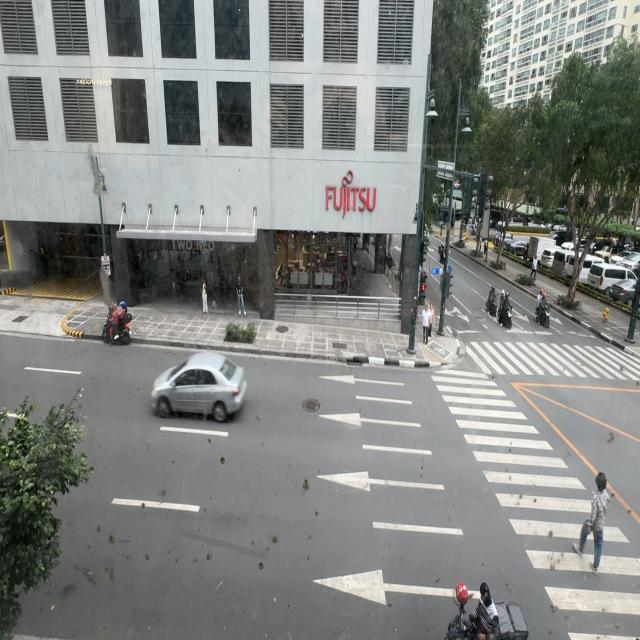crossing: (574, 458, 608, 578), (572, 472, 612, 574)
waiting: (421, 304, 430, 345), (427, 302, 434, 343)
